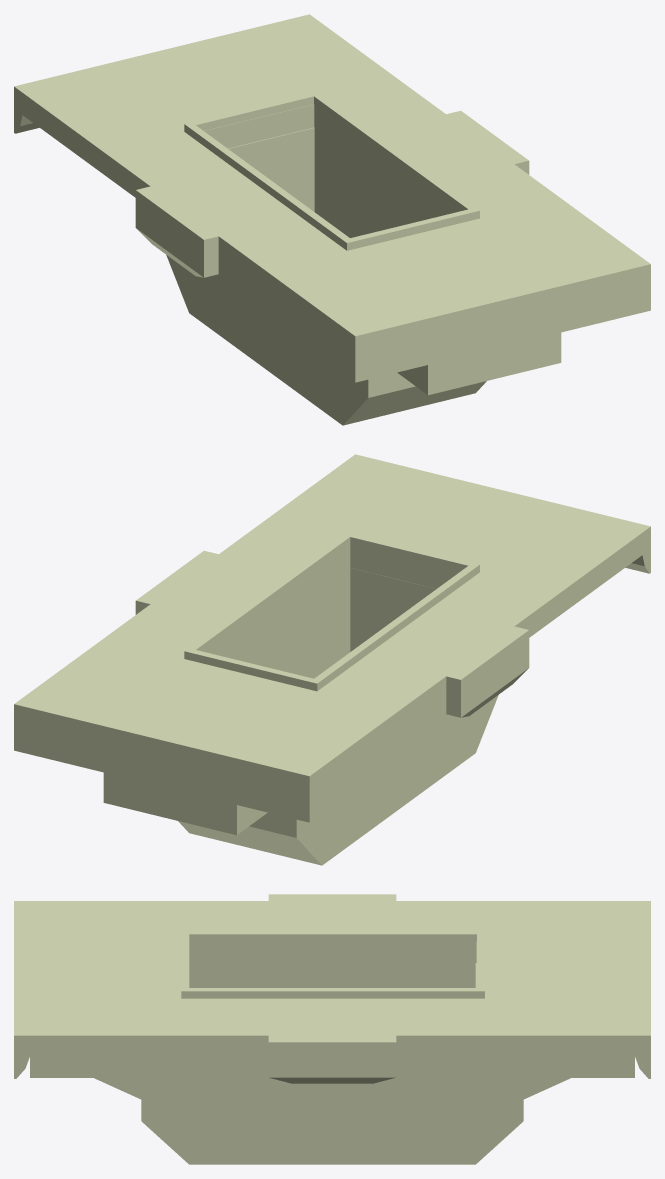
3 views of the same model, one above another, from view 1: azimuth 30°, elevation 25°; view 2: azimuth 150°, elevation 25°; view 3: azimuth 270°, elevation 25° (orthographic). The views are drawn at different scales.
Visible parts, largest first — view 1: tmp_export_Cube.017; view 2: tmp_export_Cube.017; view 3: tmp_export_Cube.017.
Part boxes in pixels (box(x1,y1,x2,y2)): tmp_export_Cube.017: box(14, 14, 650, 425); tmp_export_Cube.017: box(14, 454, 650, 865); tmp_export_Cube.017: box(14, 894, 650, 1164).
Size of the model in its own units: 2.2 by 4 by 1.2.
